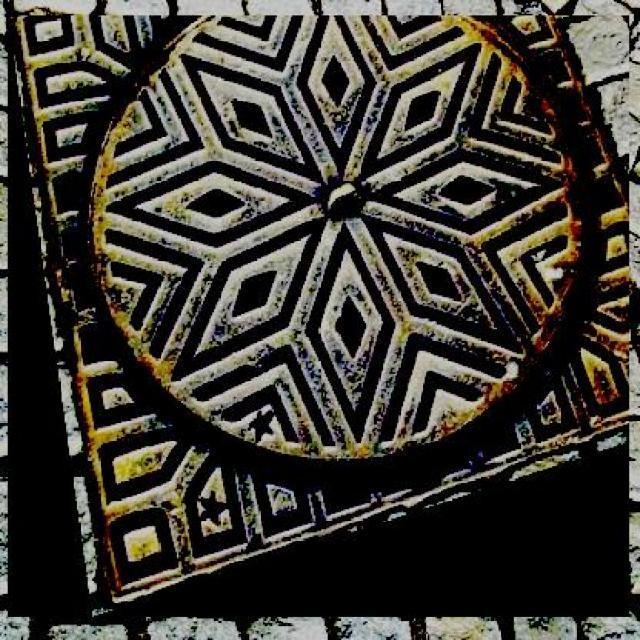Manhole: (8, 15, 630, 617)
